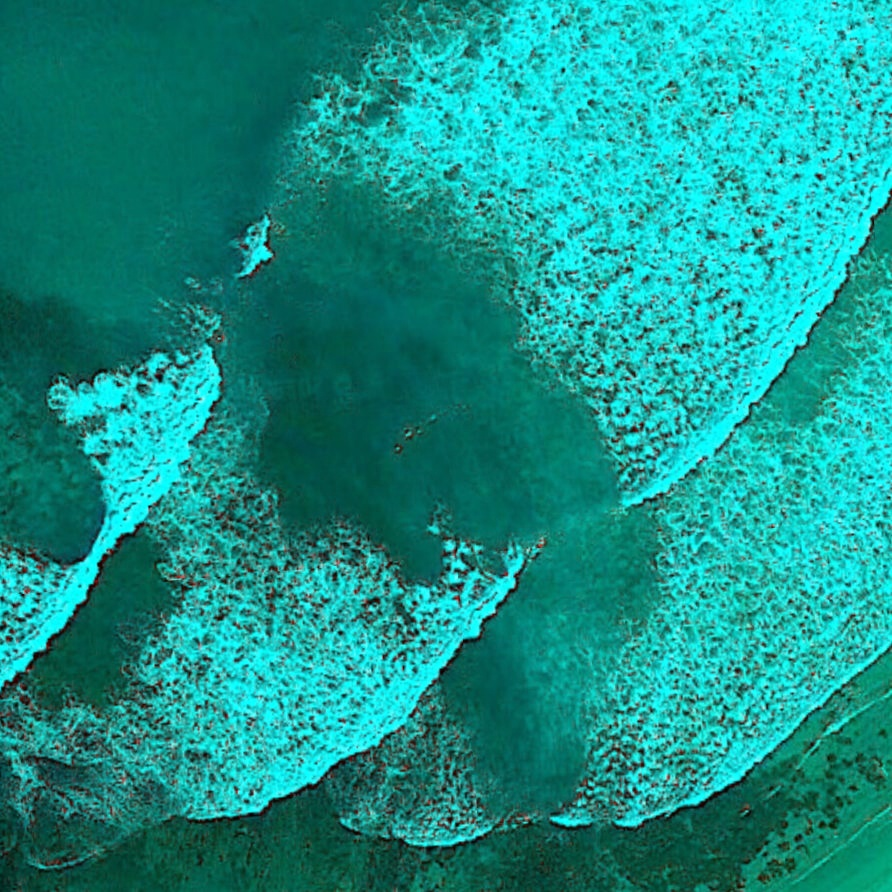rip_current: (150, 142, 682, 762)
